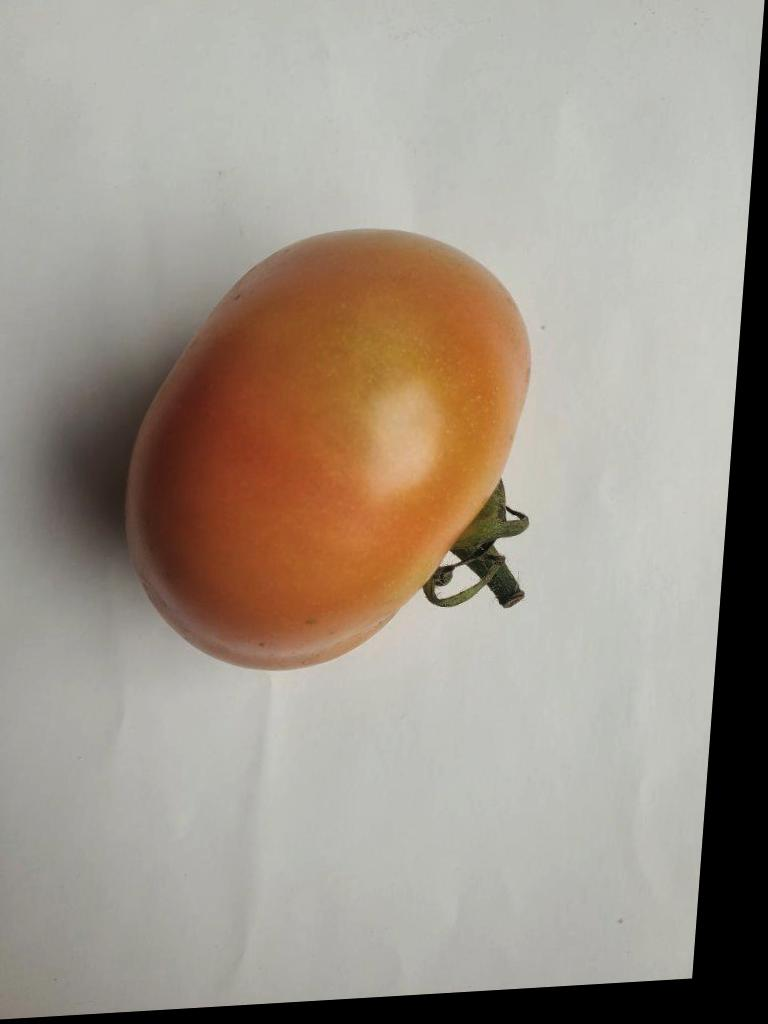tomato: (126, 230, 528, 668)
